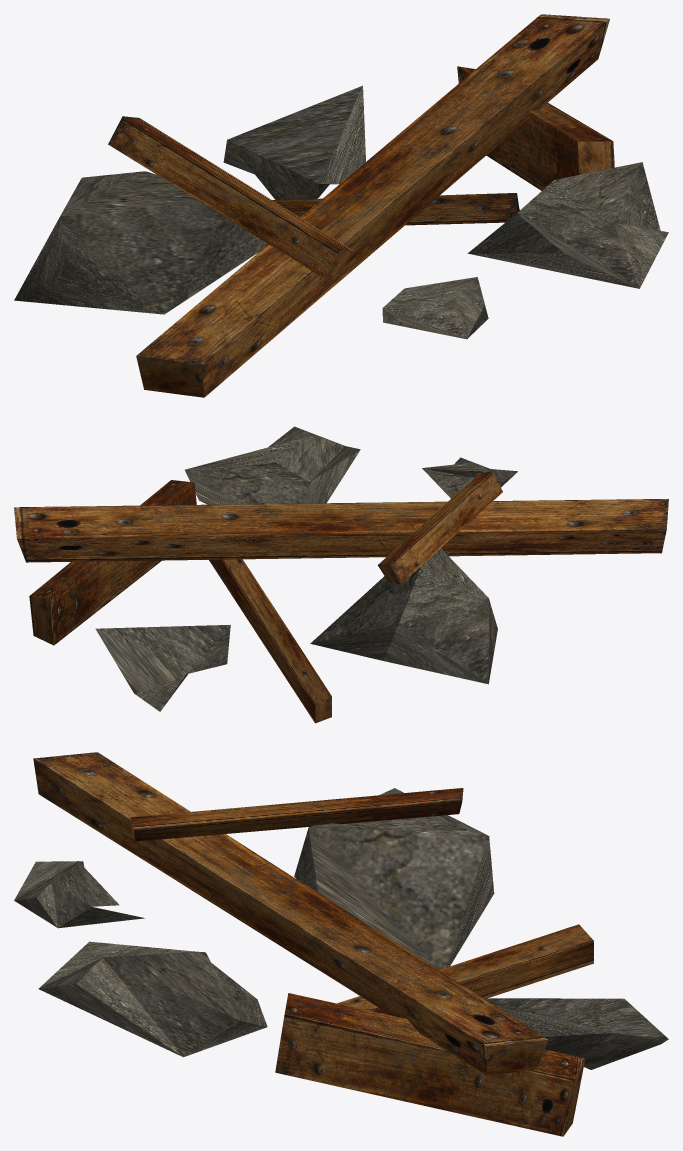
Rendered from mm9_deco_lumberstone03p10.glb.
3 views of the same model, one above another, from view 1: azimuth 30°, elevation 25°; view 2: azimuth 150°, elevation 25°; view 3: azimuth 270°, elevation 25° (orthographic). The views are drawn at different scales.
Visible parts, largest first — view 1: Lumberstone03p10; view 2: Lumberstone03p10; view 3: Lumberstone03p10.
Part boxes in pixels (x1,y1,x2,y2): Lumberstone03p10: [14, 14, 668, 397]; Lumberstone03p10: [14, 426, 668, 723]; Lumberstone03p10: [14, 752, 668, 1136].
Size of the model in its own units: 2.52 by 0.6159 by 2.25.
Materials: 1 (1 with a texture image).
